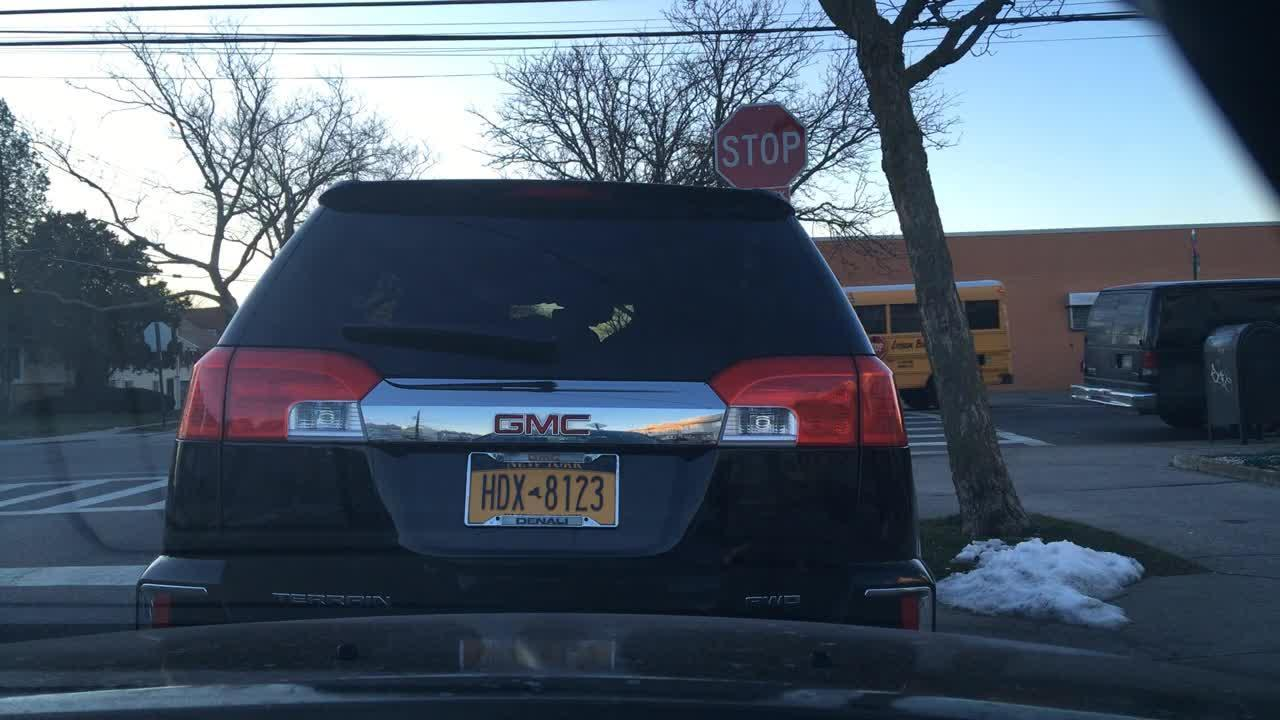GMC: (473, 393, 606, 452)
